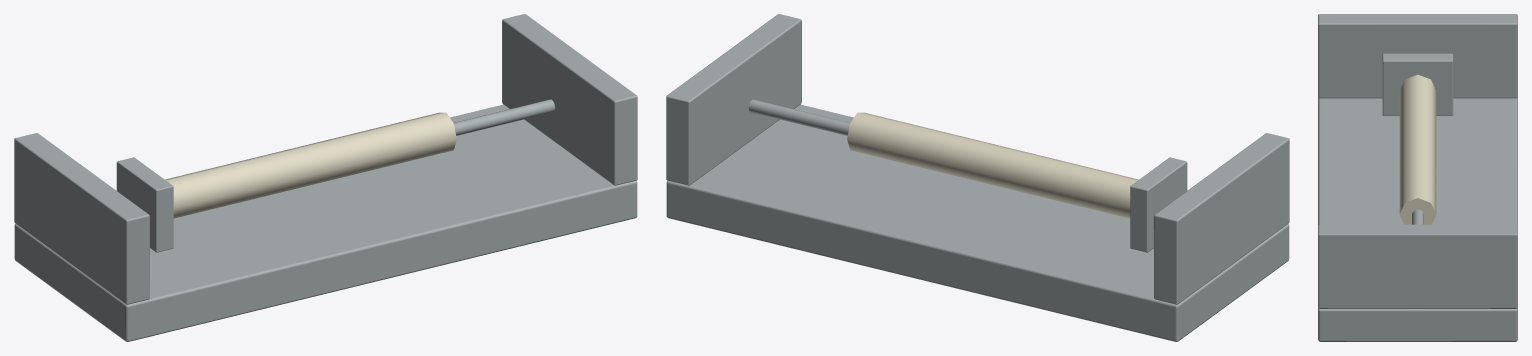
Rendered from field-medicine-and-recovery-syringe-case-b7df7209__3059.glb.
3 views of the same model, side by side, from view 1: azimuth 30°, elevation 25°; view 2: azimuth 150°, elevation 25°; view 3: azimuth 270°, elevation 25° (orthographic). The views are drawn at different scales.
Parts seen in each view (by area): view 1: syringe-case, syringe/ivory; view 2: syringe-case, syringe/ivory; view 3: syringe-case, syringe/ivory.
Boxes of the visible parts, left/top/right/bottom form: syringe-case: left=14, top=14, right=637, bottom=341; syringe/ivory: left=165, top=112, right=456, bottom=218; syringe-case: left=666, top=14, right=1289, bottom=341; syringe/ivory: left=847, top=112, right=1138, bottom=218; syringe-case: left=1318, top=14, right=1517, bottom=341; syringe/ivory: left=1399, top=74, right=1436, bottom=224.
Bounding box in the file's own units: 0.17 × 0.039 × 0.065.
